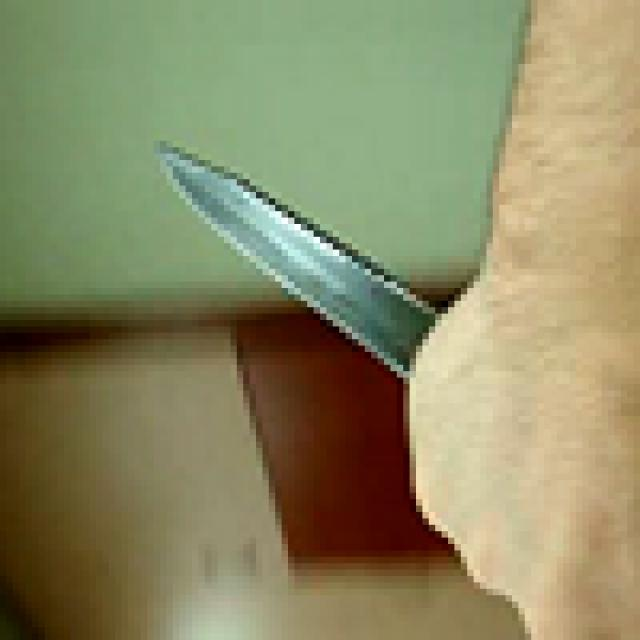Knife: (166, 128, 461, 403)
